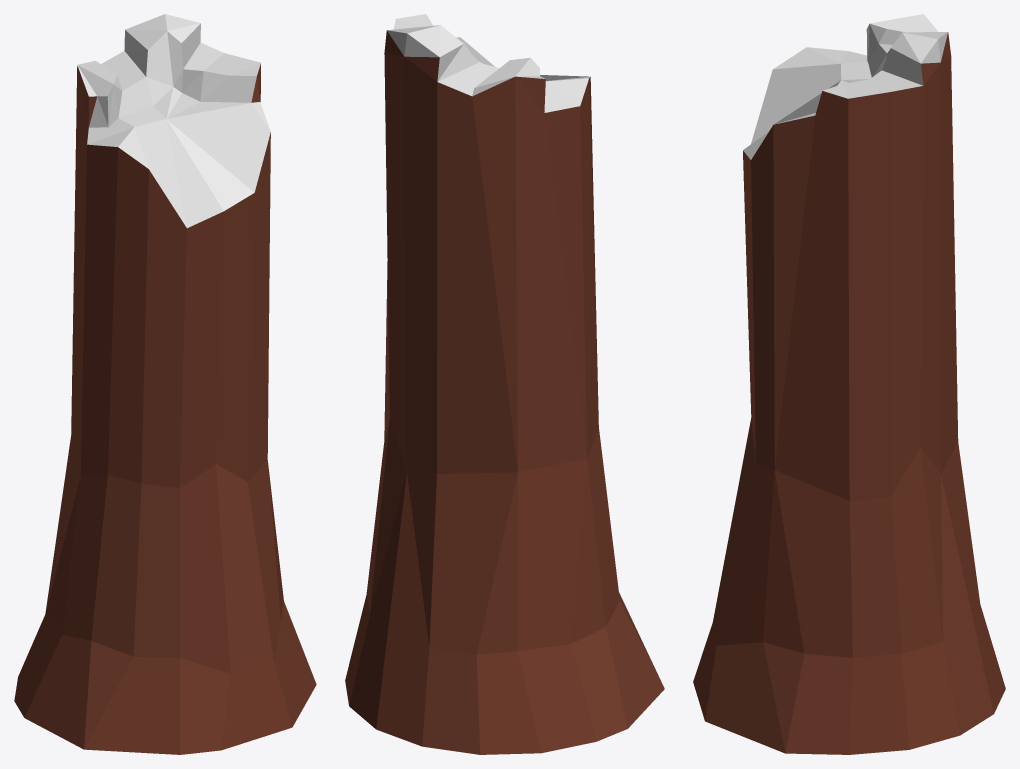
The model's file is pine_trunk_type_9_extra_LOD1.fbx.
3 renders of one model, left to right at view 1: azimuth 30°, elevation 25°; view 2: azimuth 150°, elevation 25°; view 3: azimuth 270°, elevation 25°, orthographic. The views are drawn at different scales.
Visible parts, largest first — view 1: pt_type_9.001; view 2: pt_type_9.001; view 3: pt_type_9.001.
Part boxes in pixels (x1,y1,x2,y2): pt_type_9.001: [14, 14, 316, 754]; pt_type_9.001: [345, 14, 664, 754]; pt_type_9.001: [693, 14, 1005, 754].
Size of the model in its own units: 160 by 380 by 160.
